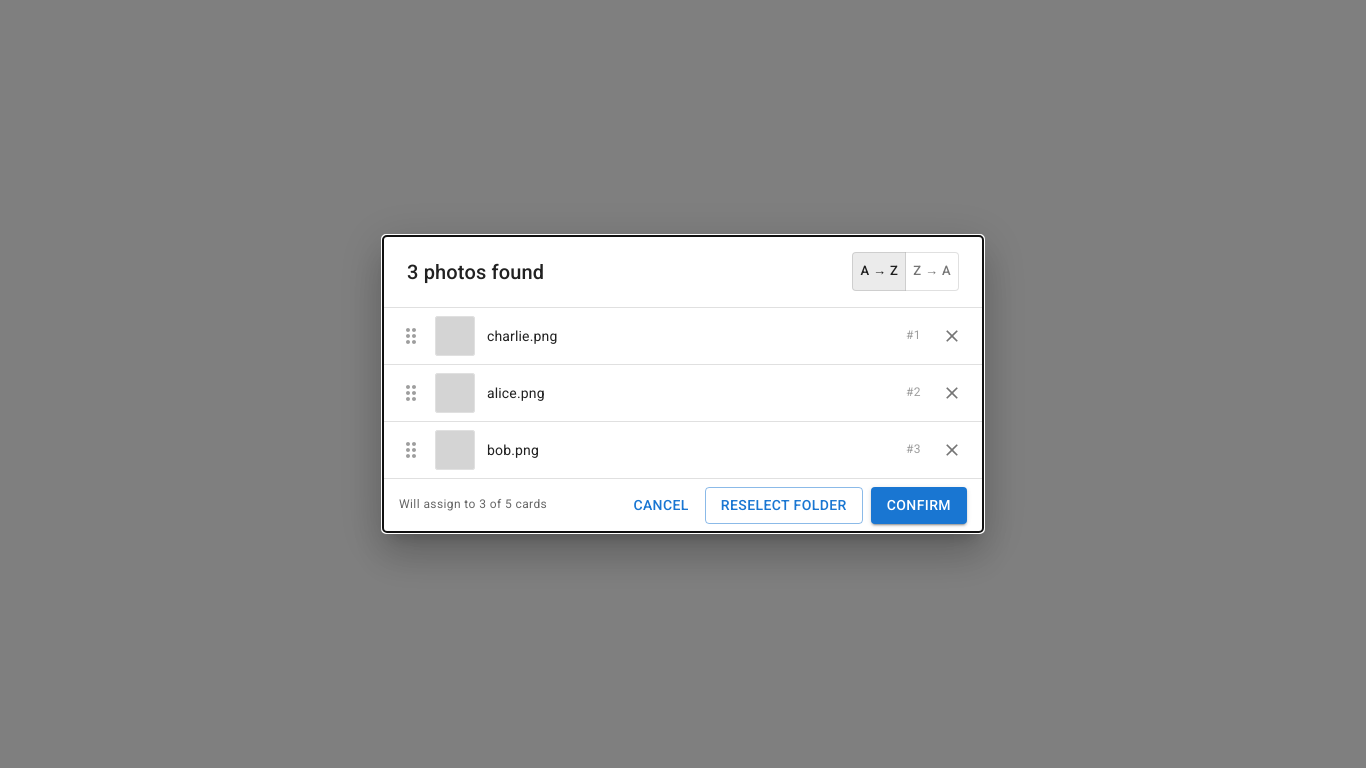
Test: BulkPhotoModal › removing a photo drops it from the list and updates the assignment count
The image size is (1366, 768).
Click the button named "Remove alice.png" at coordinates (952, 393), box [937,378,967,408]
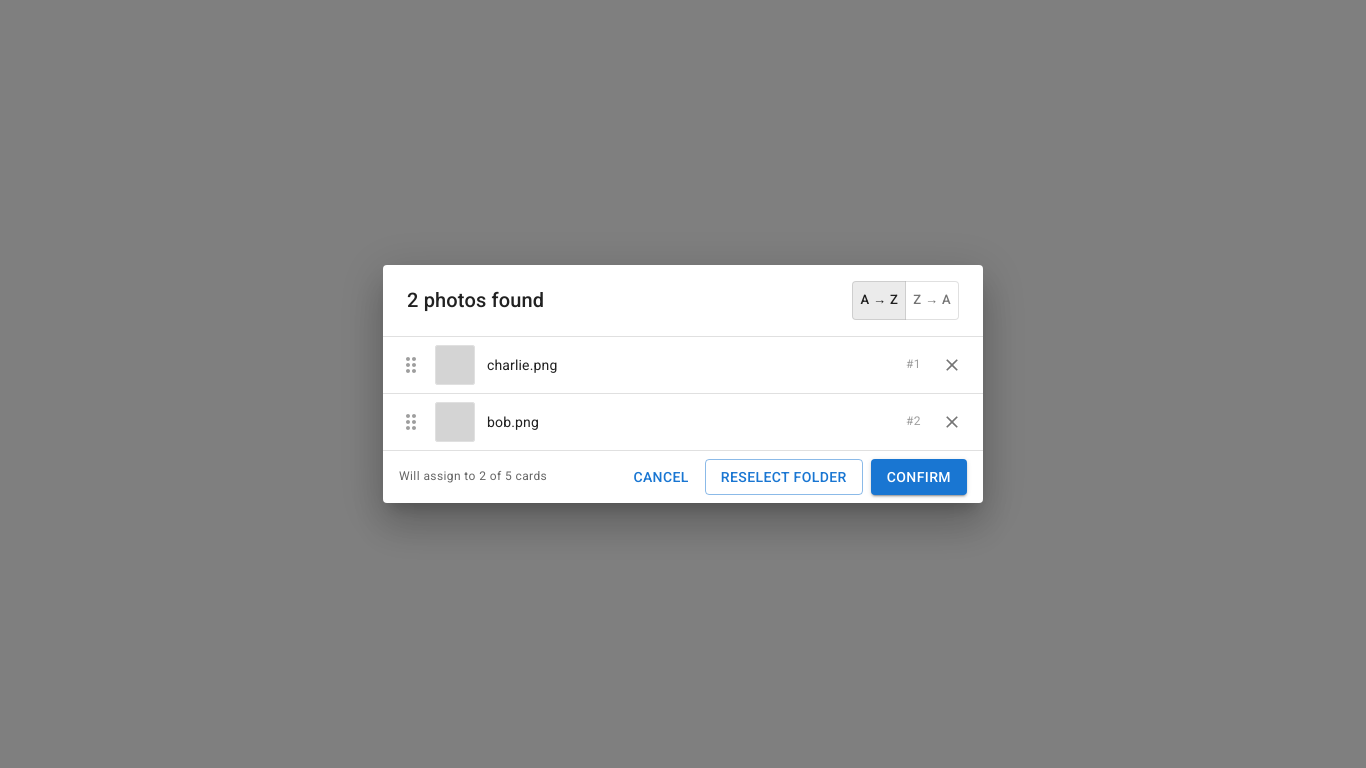
Expected: the text "alice.png" is gone
Expected: the text "2 photos found" is shown, [407,284,544,316]
Expected: the text "Will assign to 2 of 5 cards" is shown, [399,467,547,487]
